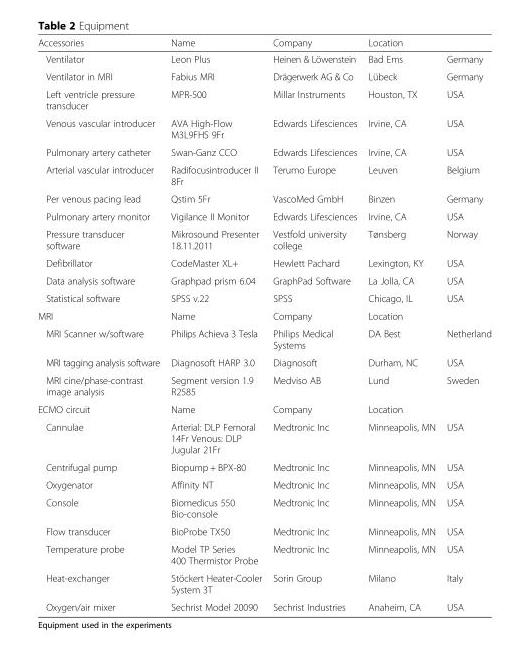table: (37, 36, 490, 612)
table column: (37, 36, 164, 612), (164, 36, 266, 612), (266, 36, 361, 612), (361, 36, 440, 612), (440, 36, 490, 612)
table column header: (37, 36, 490, 50)
table row: (37, 417, 490, 458), (37, 85, 490, 114), (37, 114, 490, 143), (37, 160, 490, 189), (37, 224, 490, 253), (37, 324, 490, 353), (37, 371, 490, 400), (37, 493, 490, 522), (37, 539, 490, 568), (37, 568, 490, 597), (37, 67, 490, 85), (37, 189, 490, 207), (37, 253, 490, 271), (37, 271, 490, 289), (37, 306, 490, 324), (37, 353, 490, 371), (37, 475, 490, 493), (37, 50, 490, 67), (37, 143, 490, 160), (37, 207, 490, 224), (37, 289, 490, 306), (37, 400, 490, 417), (37, 458, 490, 475), (37, 522, 490, 539), (37, 597, 490, 612), (37, 36, 490, 50)
